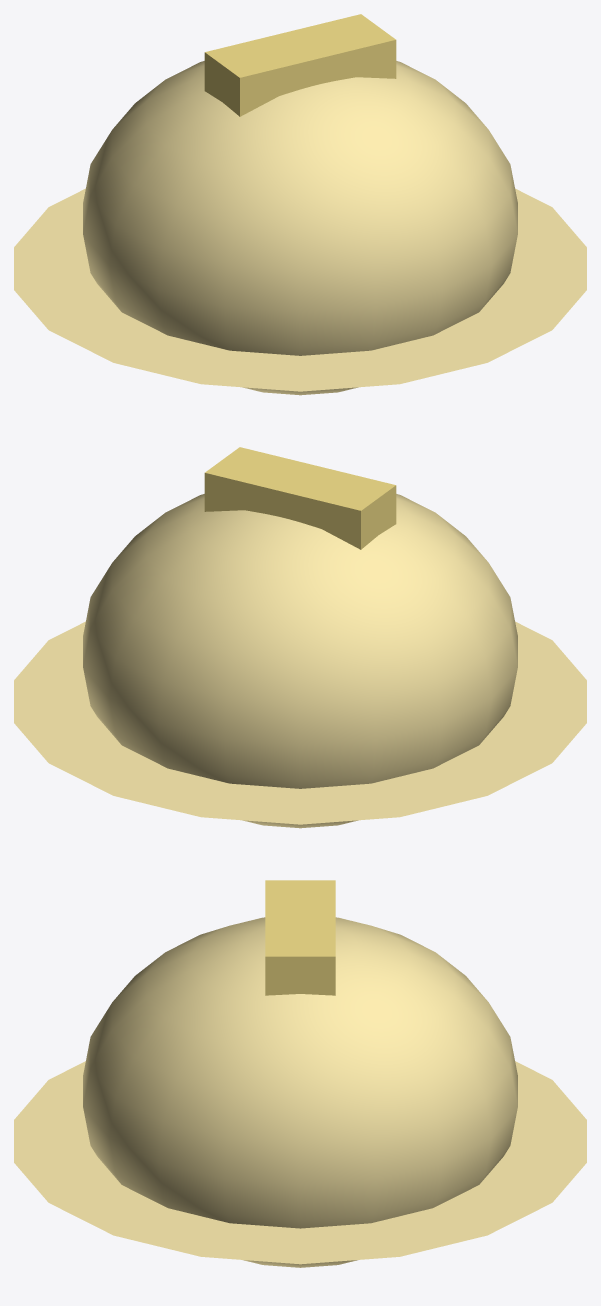
Rendered from hardhat.glb.
The picture shows the model from 3 angles, top to bottom: view 1: azimuth 30°, elevation 25°; view 2: azimuth 150°, elevation 25°; view 3: azimuth 270°, elevation 25°; orthographic projection.
Visible parts, largest first — view 1: hardhat; view 2: hardhat; view 3: hardhat.
Boxes of the visible parts, x1,y1,x2,y2 form: hardhat: (14,14,586,395); hardhat: (14,447,586,828); hardhat: (14,880,586,1267).
Bounding box in the file's own units: 0.58 × 0.355 × 0.5712.
